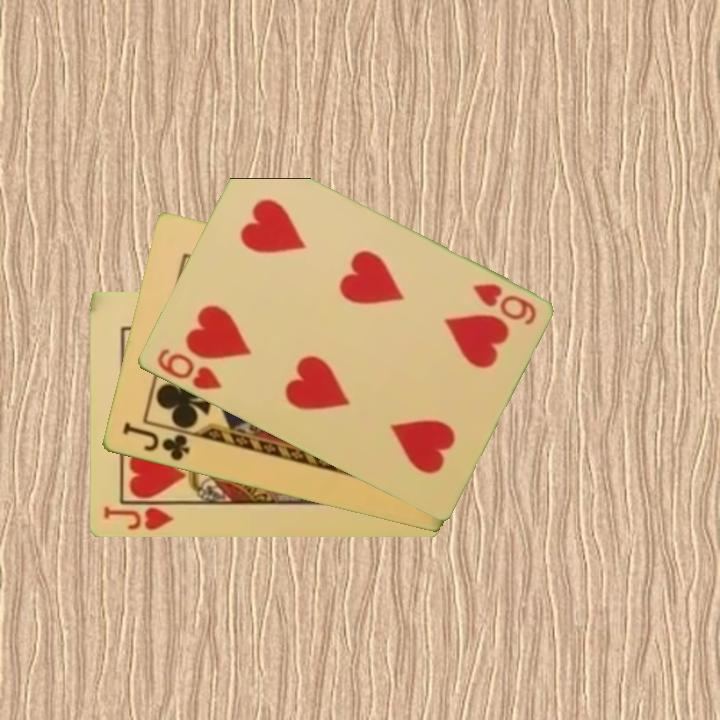6h: (468, 280, 539, 329), (153, 345, 225, 393)
Jc: (118, 418, 193, 464)
Jh: (99, 503, 176, 533)
